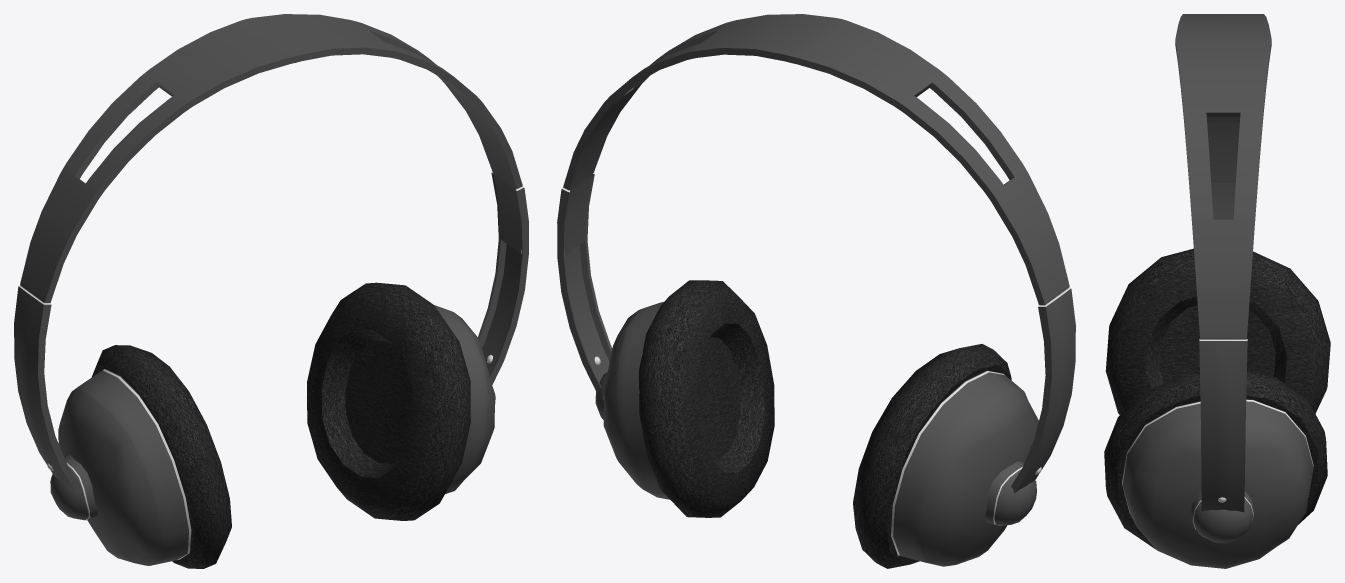
The model's file is Headphone.glb.
3 renders of one model, left to right at view 1: azimuth 30°, elevation 25°; view 2: azimuth 150°, elevation 25°; view 3: azimuth 270°, elevation 25°, orthographic. The views are drawn at different scales.
Visible parts, largest first — view 1: Plush_left_Black plush_0, headband_Black 05_0, Plush_right_Black plush_0, headband_Black Glossy_0, Speaker_Right_Black 05_0, Speaker_Right_Black Glossy_0, Speaker_Left_Black Glossy_0, Speaker_b_Right_Black Glossy_0, Speaker_Left_Black 05_0, Speaker_Right_Grey Glossy_0; view 2: headband_Black 05_0, Plush_left_Black plush_0, Speaker_Right_Black 05_0, Plush_right_Black plush_0, headband_Black Glossy_0, Speaker_Right_Black Glossy_0, Speaker_Left_Black Glossy_0, Speaker_b_Right_Black Glossy_0, Speaker_Left_Black 05_0, Speaker_Right_Grey Glossy_0; view 3: headband_Black 05_0, Plush_right_Black plush_0, Speaker_Left_Black 05_0, headband_Black Glossy_0, Plush_left_Black plush_0, Speaker_Left_Black Glossy_0, Speaker_b_Left_Black Glossy_0, Speaker_Left_Material #99_0, Speaker_Left_Grey Glossy_0.
Boxes of the visible parts, x1,y1,x2,y2 form: Plush_left_Black plush_0: [307, 282, 470, 520]; headband_Black 05_0: [20, 14, 522, 302]; Plush_right_Black plush_0: [91, 345, 231, 568]; headband_Black Glossy_0: [14, 173, 528, 494]; Speaker_Right_Black 05_0: [58, 388, 160, 565]; Speaker_Right_Black Glossy_0: [79, 369, 191, 565]; Speaker_Left_Black Glossy_0: [434, 305, 487, 493]; Speaker_b_Right_Black Glossy_0: [50, 455, 97, 520]; Speaker_Left_Black 05_0: [455, 313, 495, 484]; Speaker_Right_Grey Glossy_0: [103, 369, 191, 559]; headband_Black 05_0: [563, 14, 1069, 304]; Plush_left_Black plush_0: [639, 280, 774, 517]; Speaker_Right_Black 05_0: [920, 391, 1038, 566]; Plush_right_Black plush_0: [853, 344, 1011, 568]; headband_Black Glossy_0: [557, 174, 1075, 493]; Speaker_Right_Black Glossy_0: [891, 370, 1023, 562]; Speaker_Left_Black Glossy_0: [617, 302, 669, 499]; Speaker_b_Right_Black Glossy_0: [985, 461, 1036, 525]; Speaker_Left_Black 05_0: [603, 311, 641, 488]; Speaker_Right_Grey Glossy_0: [891, 371, 1004, 555]; headband_Black 05_0: [1175, 14, 1271, 339]; Plush_right_Black plush_0: [1105, 248, 1330, 414]; Speaker_Left_Black 05_0: [1130, 424, 1309, 568]; headband_Black Glossy_0: [1199, 183, 1247, 512]; Plush_left_Black plush_0: [1104, 372, 1327, 549]; Speaker_Left_Black Glossy_0: [1122, 399, 1313, 526]; Speaker_b_Left_Black Glossy_0: [1191, 491, 1254, 543]; Speaker_Left_Material #99_0: [1129, 422, 1310, 549]; Speaker_Left_Grey Glossy_0: [1122, 399, 1313, 513].
Size of the model in its own units: 78.83 by 75.07 by 32.69.
3 materials, 1 textured.
